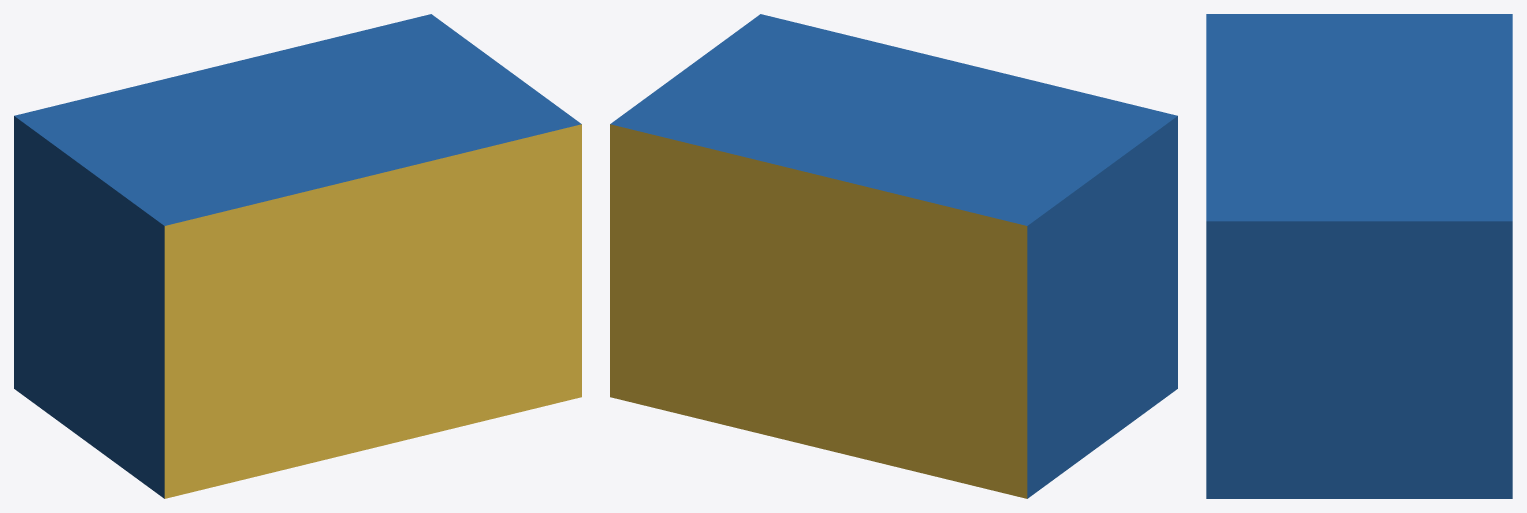
File: multi-material.glb
The picture shows the model from 3 angles, left to right: view 1: azimuth 30°, elevation 25°; view 2: azimuth 150°, elevation 25°; view 3: azimuth 270°, elevation 25°; orthographic projection.
Size of the model in its own units: 1.6 by 1 by 1.
